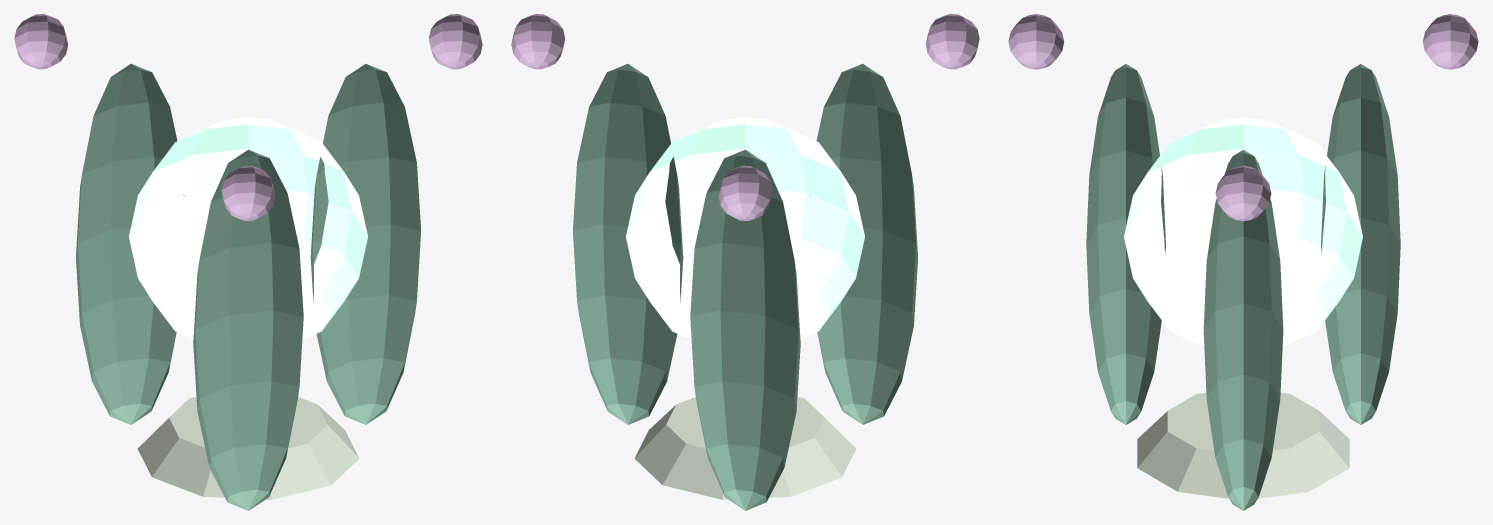
Rendered from runestone-conservatory-seedlight-reward-orb__123.glb.
The picture shows the model from 3 angles, left to right: view 1: azimuth 30°, elevation 25°; view 2: azimuth 150°, elevation 25°; view 3: azimuth 270°, elevation 25°; orthographic projection.
Parts seen in each view (by area): view 1: runestone-conservatory-seedlight-orb; view 2: runestone-conservatory-seedlight-orb; view 3: runestone-conservatory-seedlight-orb.
Boxes of the visible parts, x1=… form: runestone-conservatory-seedlight-orb: x1=14, y1=14, x2=482, y2=510; runestone-conservatory-seedlight-orb: x1=511, y1=14, x2=979, y2=510; runestone-conservatory-seedlight-orb: x1=1008, y1=14, x2=1478, y2=510.
Size of the model in its own units: 0.52 by 0.535 by 0.5896.
